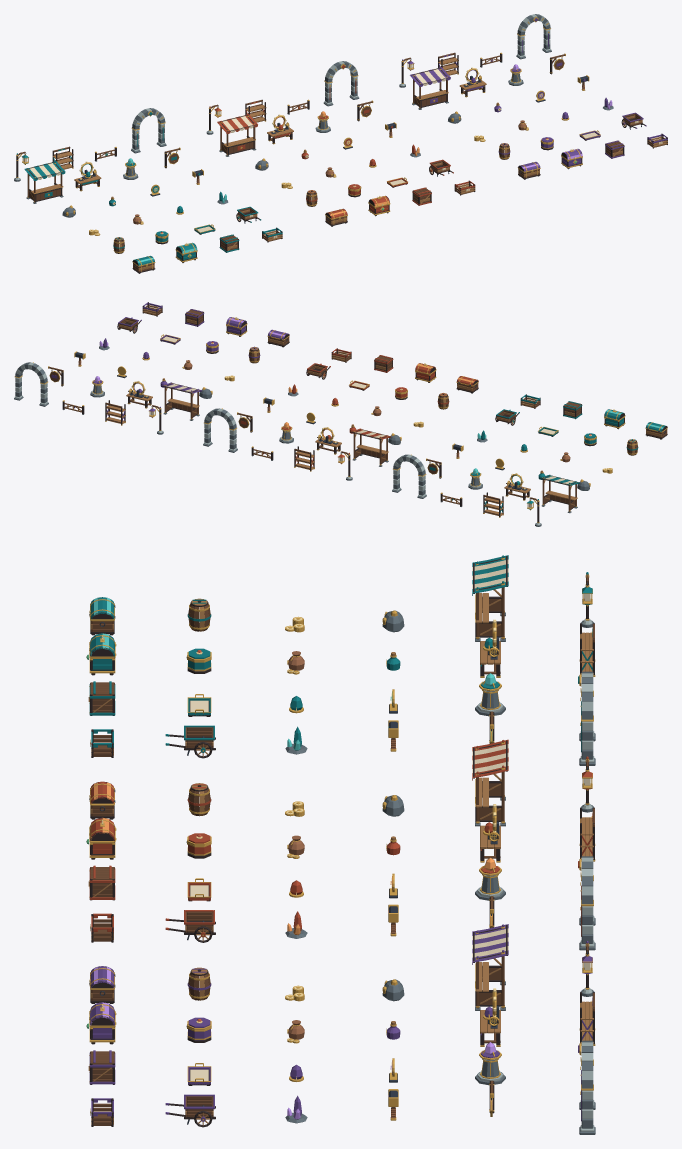
The model's file is GildedGrove_24Models_3Palettes.glb.
3 renders of one model, top to bottom at view 1: azimuth 30°, elevation 25°; view 2: azimuth 150°, elevation 25°; view 3: azimuth 270°, elevation 25°, orthographic. The views are drawn at different scales.
Visible parts, largest first — view 1: Teal__17_Merchant_Stall__Body, Ember__17_Merchant_Stall__Body, Amethyst__17_Merchant_Stall__Body, Teal__18_Upgrade_Station__Body, Ember__18_Upgrade_Station__Body, Amethyst__18_Upgrade_Station__Body; view 2: Ember__17_Merchant_Stall__Body, Teal__17_Merchant_Stall__Body, Amethyst__17_Merchant_Stall__Body, Amethyst__18_Upgrade_Station__Body, Teal__18_Upgrade_Station__Body, Ember__18_Upgrade_Station__Body, Ember__22_Display_Shelf__Body, Amethyst__22_Display_Shelf__Body, Teal__22_Display_Shelf__Body; view 3: Ember__17_Merchant_Stall__Body, Teal__17_Merchant_Stall__Body, Amethyst__17_Merchant_Stall__Body, Teal__08_Treasure_Cart__Body, Amethyst__08_Treasure_Cart__Body.
Boxes of the visible parts, <box> form: Teal__17_Merchant_Stall__Body: <box>24,161,65,203</box>; Ember__17_Merchant_Stall__Body: <box>217,114,257,156</box>; Amethyst__17_Merchant_Stall__Body: <box>410,67,450,109</box>; Teal__18_Upgrade_Station__Body: <box>74,161,101,191</box>; Ember__18_Upgrade_Station__Body: <box>267,114,293,144</box>; Amethyst__18_Upgrade_Station__Body: <box>459,67,486,97</box>; Ember__17_Merchant_Stall__Body: <box>350,428,390,466</box>; Teal__17_Merchant_Stall__Body: <box>539,474,579,513</box>; Amethyst__17_Merchant_Stall__Body: <box>161,382,201,420</box>; Amethyst__18_Upgrade_Station__Body: <box>126,381,152,408</box>; Teal__18_Upgrade_Station__Body: <box>504,473,530,500</box>; Ember__18_Upgrade_Station__Body: <box>315,427,341,454</box>; Ember__22_Display_Shelf__Body: <box>294,446,314,471</box>; Amethyst__22_Display_Shelf__Body: <box>105,400,125,425</box>; Teal__22_Display_Shelf__Body: <box>483,492,503,517</box>; Ember__17_Merchant_Stall__Body: <box>472,739,508,826</box>; Teal__17_Merchant_Stall__Body: <box>472,555,508,641</box>; Amethyst__17_Merchant_Stall__Body: <box>472,924,508,1010</box>; Teal__08_Treasure_Cart__Body: <box>165,725,215,755</box>; Amethyst__08_Treasure_Cart__Body: <box>165,1094,215,1124</box>.
Size of the model in its own units: 102 by 6.96 by 42.
3 materials, 3 textured.
